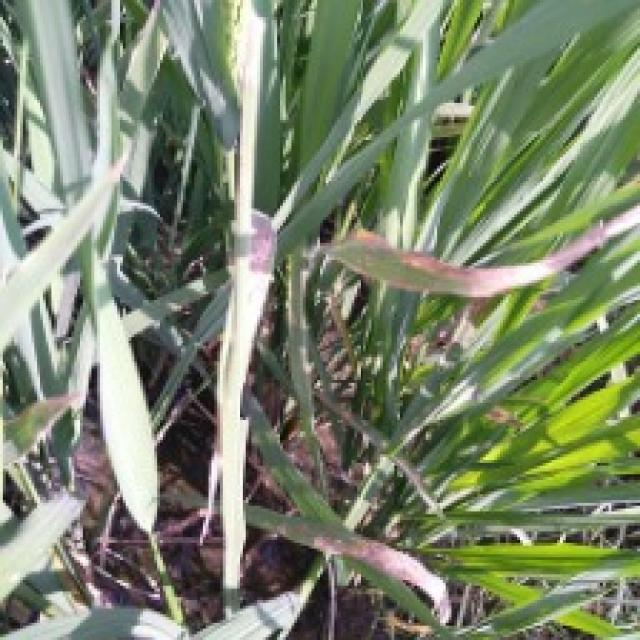Rice___Rice_Blast: (213, 2, 277, 593), (321, 201, 637, 300), (246, 500, 455, 629)
